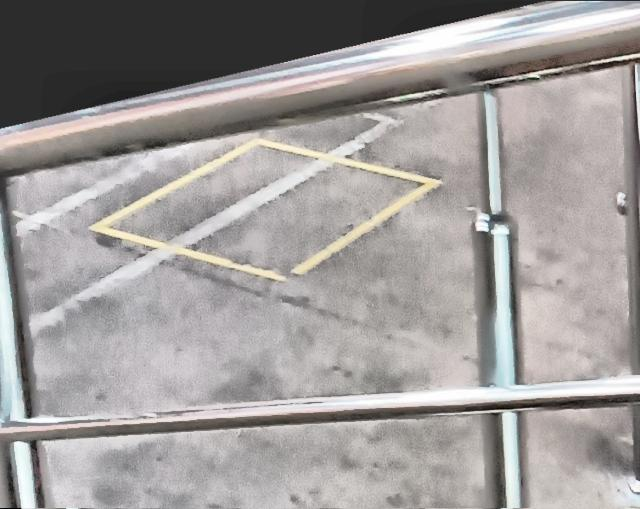obstacle: (0, 1, 640, 508)
